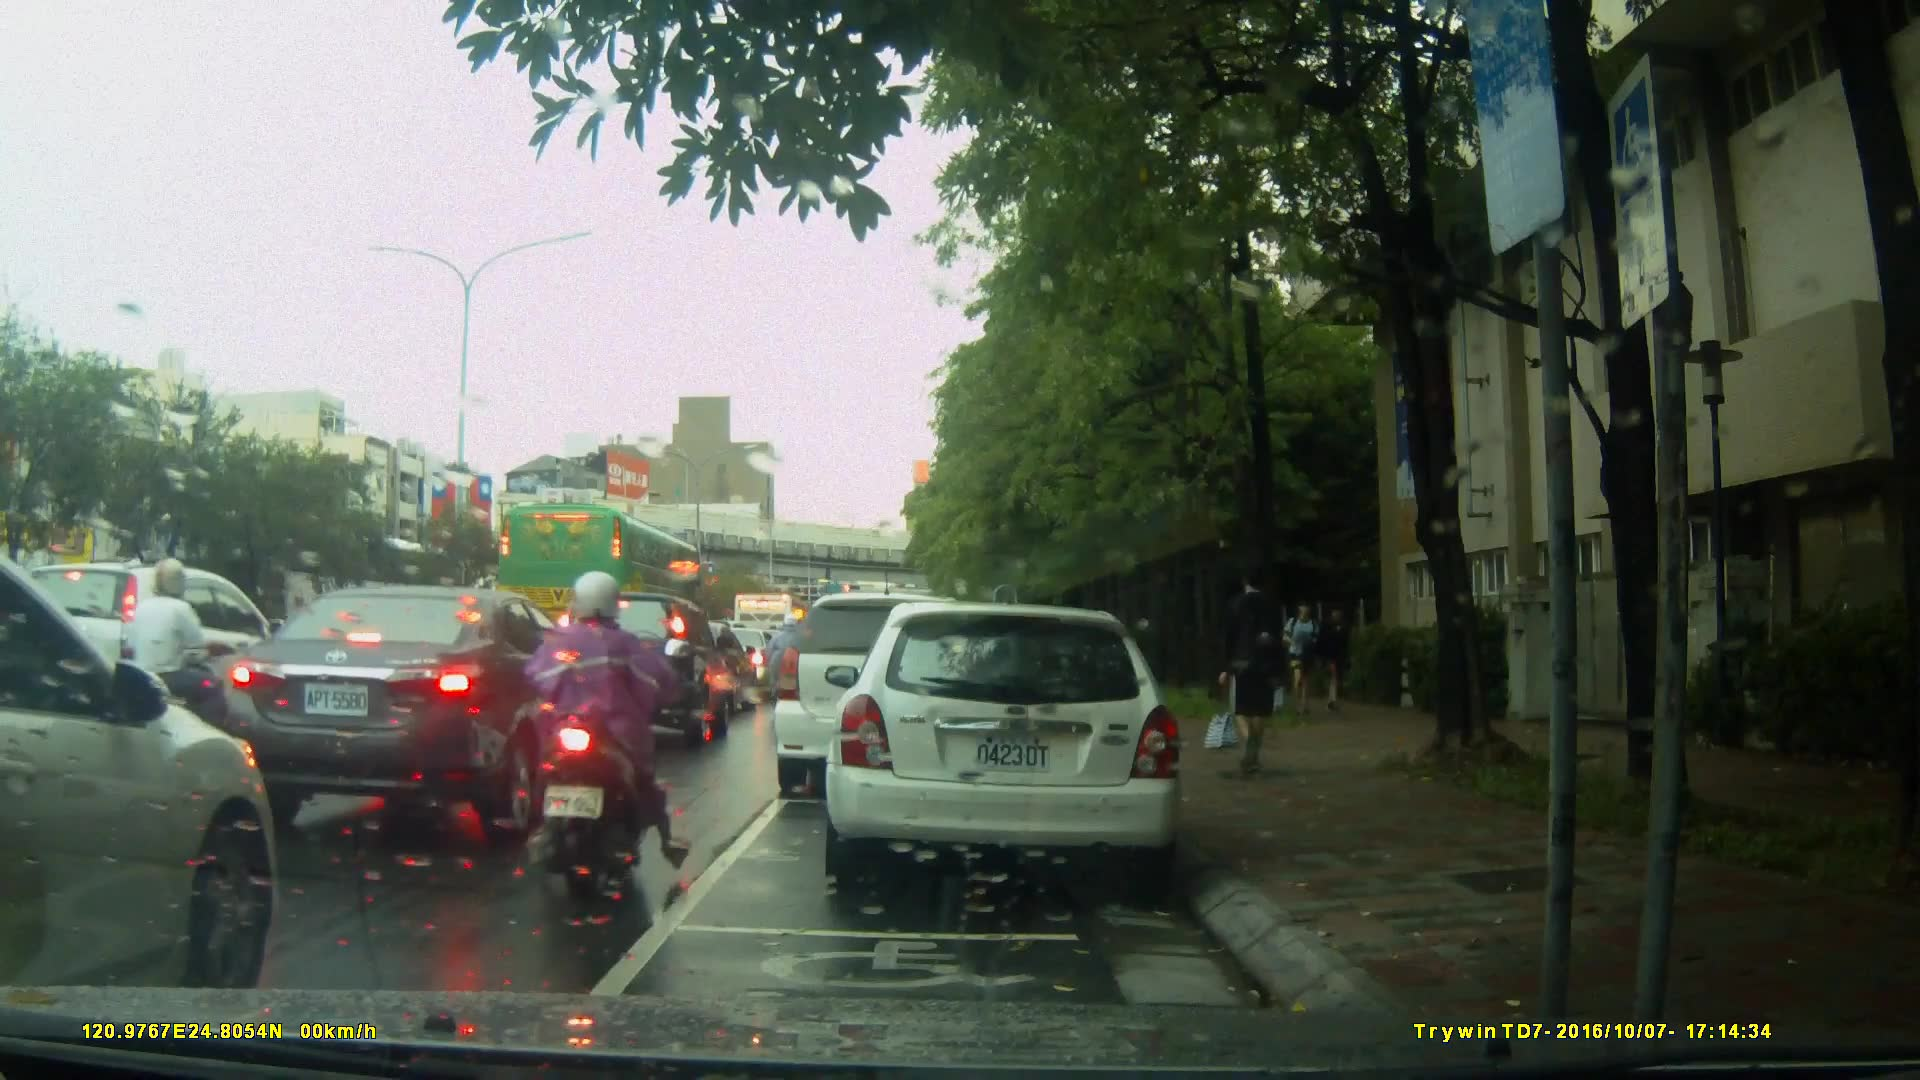pedestrian: (1212, 563, 1293, 780), (1281, 595, 1327, 715), (1319, 600, 1362, 708)
rider: (529, 572, 692, 897), (133, 561, 247, 798), (768, 612, 809, 712)
vehicle: (1, 528, 287, 987), (831, 592, 1196, 897), (221, 582, 618, 844), (17, 559, 293, 756), (770, 592, 999, 799), (494, 501, 707, 648), (542, 587, 734, 745)
